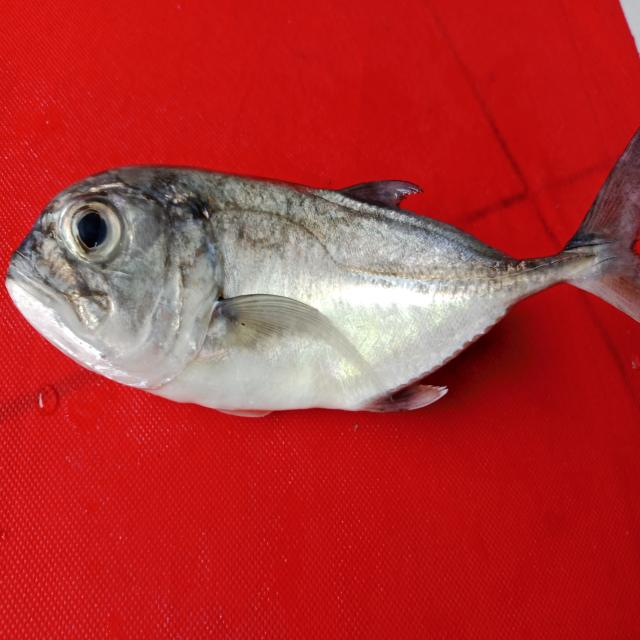ikan: (4, 120, 634, 422)
